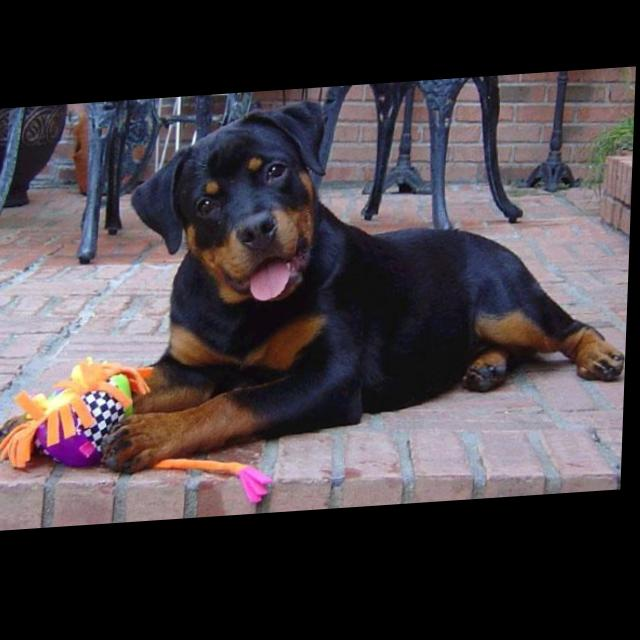rottweiler: (103, 84, 638, 478)
